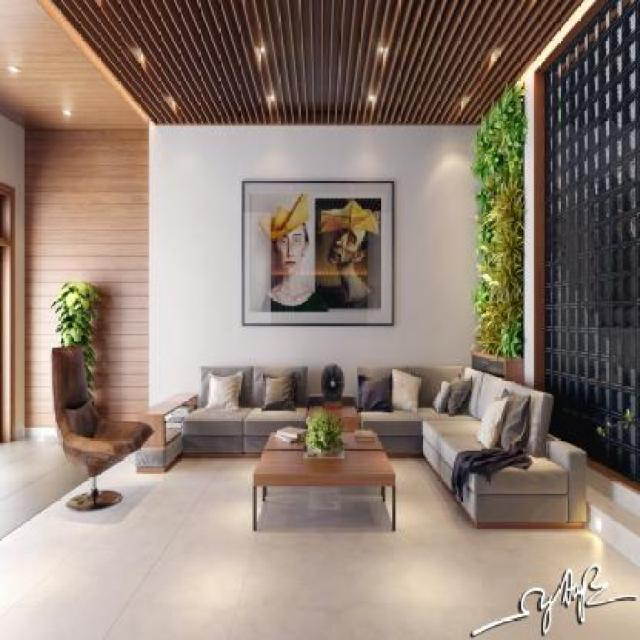floor: (2, 433, 640, 640)
